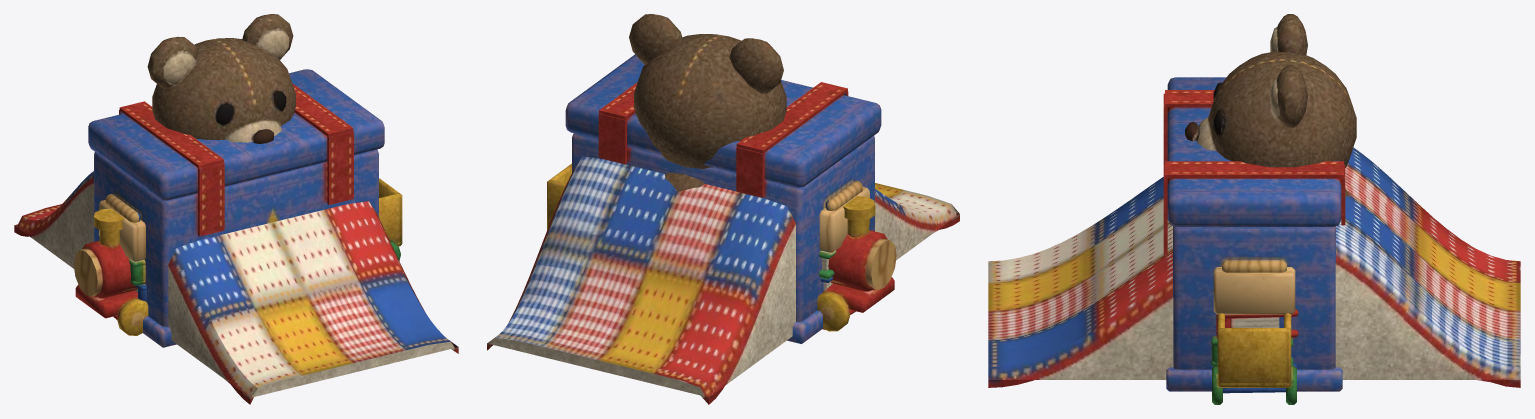
File: props_batch2_medium.glb
The picture shows the model from 3 angles, left to right: view 1: azimuth 30°, elevation 25°; view 2: azimuth 150°, elevation 25°; view 3: azimuth 270°, elevation 25°; orthographic projection. The views are drawn at different scales.
Parts seen in each view (by area): view 1: PillowHill, ToyChest, Teddy, Train, RulerBridge; view 2: PillowHill, ToyChest, Teddy, Train, RulerBridge; view 3: PillowHill, ToyChest, Teddy, Train, RulerBridge.
Boxes of the visible parts, bbox=[...] form: PillowHill: bbox=[14, 171, 458, 404]; ToyChest: bbox=[88, 69, 384, 347]; Teddy: bbox=[147, 14, 295, 143]; Train: bbox=[73, 178, 402, 335]; RulerBridge: bbox=[99, 200, 146, 319]; PillowHill: bbox=[487, 156, 959, 404]; ToyChest: bbox=[565, 54, 881, 343]; Teddy: bbox=[629, 14, 786, 191]; Train: bbox=[547, 163, 896, 331]; RulerBridge: bbox=[819, 187, 869, 329]; PillowHill: bbox=[988, 147, 1520, 387]; ToyChest: bbox=[1163, 77, 1345, 391]; Teddy: bbox=[1185, 14, 1356, 196]; Train: bbox=[1212, 313, 1296, 404]; RulerBridge: bbox=[1211, 267, 1298, 393].
Size of what is drawn, in the model's own units: 7.23 by 5.85 by 9.8.
Materials: 1 (1 with a texture image).
